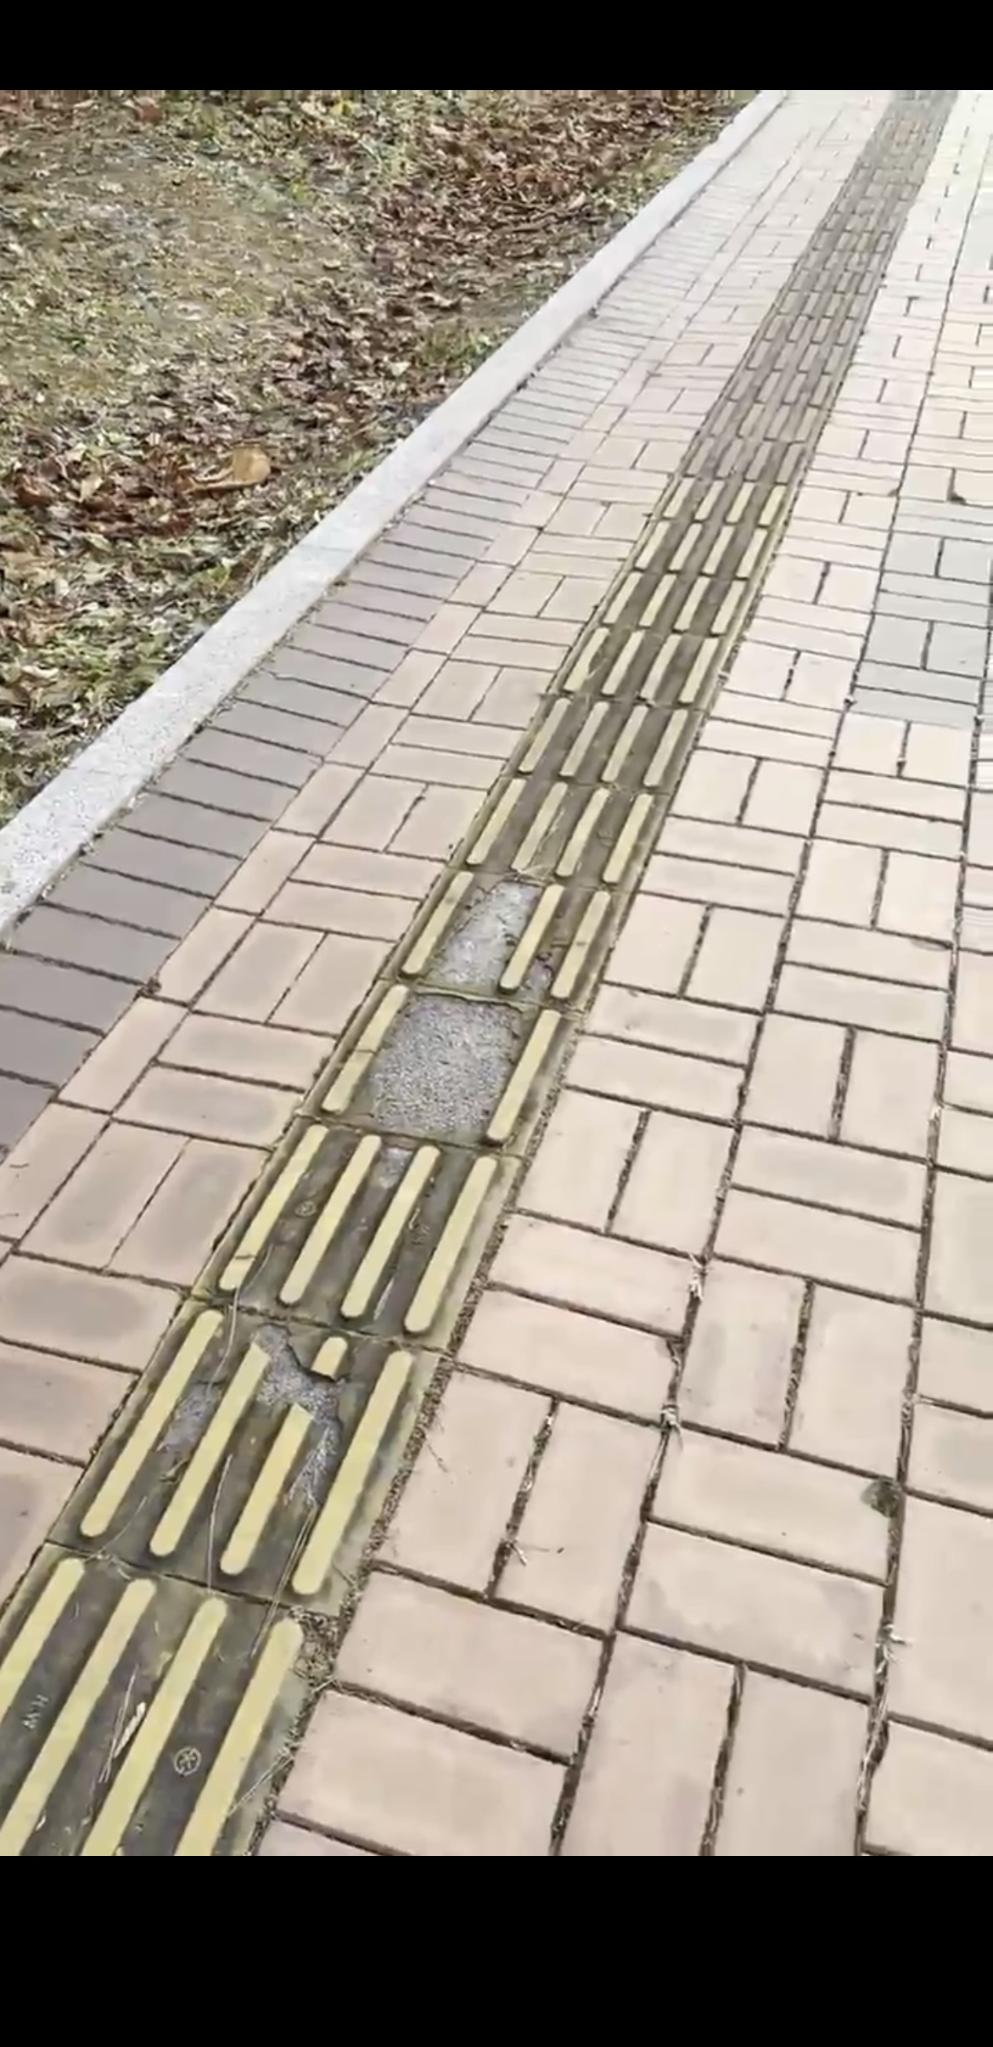Straight block broken: (50, 1300, 441, 1616), (301, 980, 581, 1157), (381, 869, 630, 1013)
Straight block normal: (197, 1117, 518, 1343), (451, 777, 667, 889), (502, 697, 705, 795), (552, 628, 729, 706)
